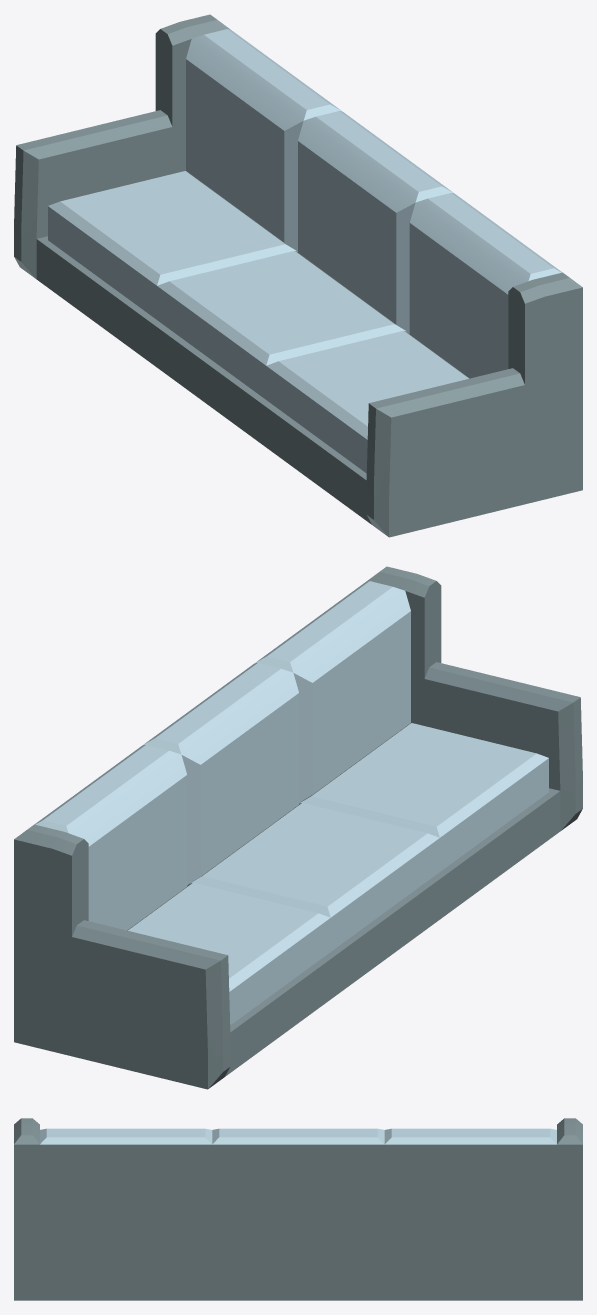
The model's file is Couch.fbx.
3 views of the same model, one above another, from view 1: azimuth 30°, elevation 25°; view 2: azimuth 150°, elevation 25°; view 3: azimuth 270°, elevation 25° (orthographic). The views are drawn at different scales.
Parts seen in each view (by area): view 1: Couch.001; view 2: Couch.001; view 3: Couch.001.
Part boxes in pixels (x1,y1,x2,y2): Couch.001: (14, 14, 582, 537); Couch.001: (14, 566, 582, 1089); Couch.001: (14, 1118, 582, 1300).
Size of the model in its own units: 316 by 312 by 990.
